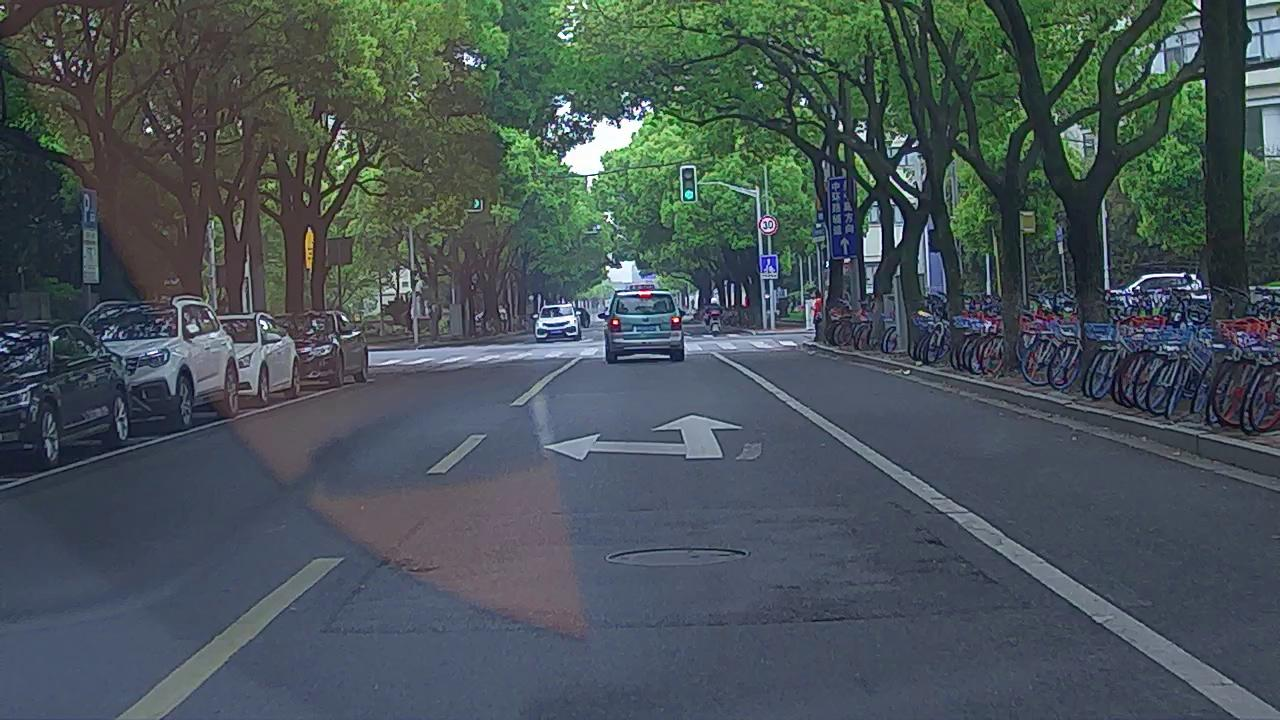traffic_light: (682, 167, 695, 201)
